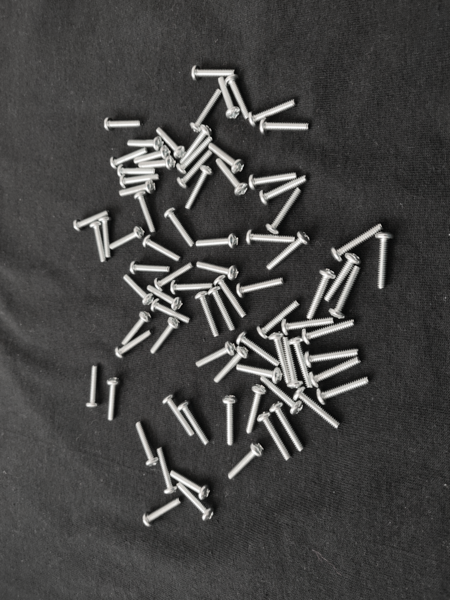longscrew: (330, 224, 384, 264), (293, 386, 341, 430), (323, 252, 362, 303), (265, 188, 304, 236), (269, 401, 305, 453), (328, 265, 362, 320), (260, 375, 304, 417), (266, 231, 311, 271), (257, 411, 292, 462), (309, 356, 362, 389), (257, 300, 300, 340), (235, 331, 281, 368), (305, 268, 337, 321), (177, 399, 211, 447), (258, 175, 309, 207), (317, 376, 370, 406), (213, 274, 248, 319), (248, 98, 298, 129), (189, 89, 223, 134), (177, 482, 214, 523), (302, 319, 356, 347), (162, 393, 196, 437), (227, 442, 265, 481), (176, 136, 214, 175), (177, 150, 213, 191), (213, 345, 250, 384), (179, 124, 213, 165), (208, 285, 237, 333), (184, 165, 214, 211), (164, 207, 197, 248), (170, 470, 212, 502), (268, 331, 292, 386), (194, 291, 221, 339), (215, 158, 248, 197), (289, 336, 313, 389), (375, 232, 396, 291), (154, 262, 195, 292), (236, 275, 285, 300), (208, 142, 245, 175), (305, 347, 360, 369), (115, 329, 154, 360), (142, 498, 182, 528), (149, 298, 193, 325), (150, 317, 181, 355), (225, 74, 250, 121), (245, 384, 268, 435), (142, 235, 183, 263), (282, 337, 304, 389), (195, 342, 237, 369), (122, 274, 155, 307), (155, 126, 187, 160), (121, 311, 152, 346), (136, 421, 159, 468), (281, 317, 335, 337), (156, 446, 178, 495), (236, 363, 284, 385), (259, 116, 311, 136), (134, 190, 157, 234), (248, 172, 298, 192), (147, 285, 184, 312), (218, 77, 241, 120), (246, 229, 297, 248), (196, 260, 240, 281), (109, 226, 145, 251), (73, 209, 110, 233), (222, 395, 239, 447), (109, 148, 149, 170), (89, 221, 108, 264), (190, 65, 236, 82), (133, 145, 171, 165), (105, 377, 121, 422), (170, 280, 214, 296), (119, 180, 157, 198), (118, 173, 160, 189), (85, 365, 100, 409), (103, 116, 144, 132), (196, 233, 239, 248), (98, 216, 113, 259), (129, 262, 171, 276), (116, 164, 157, 178), (126, 136, 164, 151), (138, 156, 176, 171)
